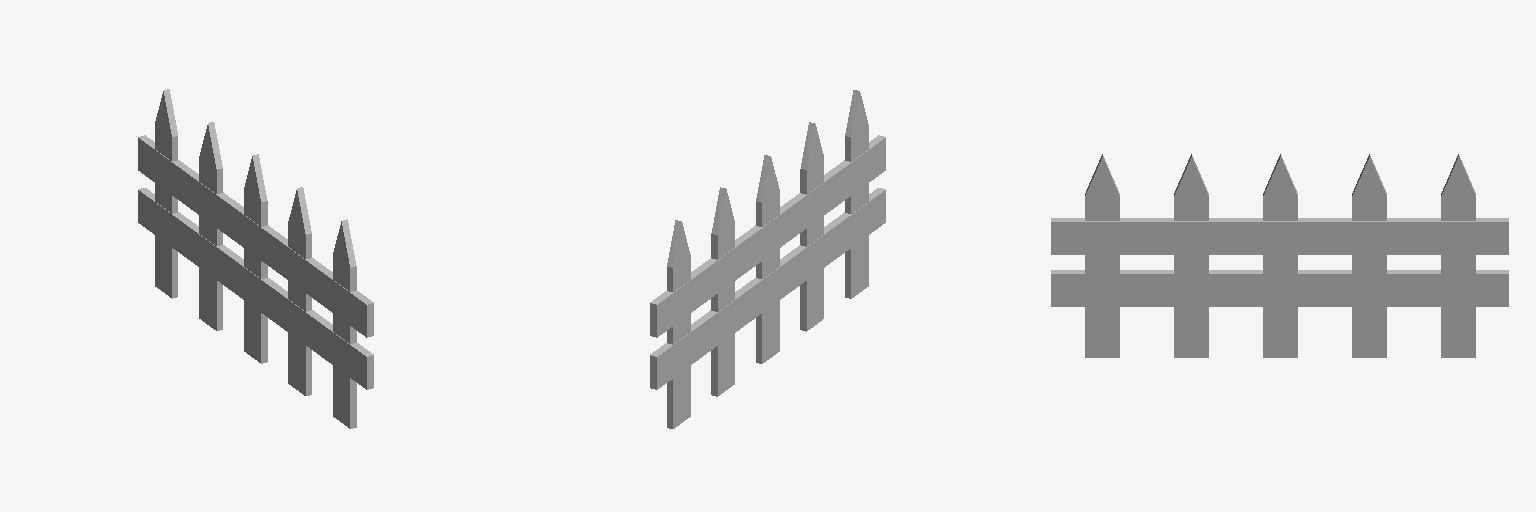
Rendered from fence.obj.
3 views of the same model, side by side, from view 1: azimuth 30°, elevation 25°; view 2: azimuth 150°, elevation 25°; view 3: azimuth 270°, elevation 25° (orthographic).
Size of the model in its own units: 0.1 by 2.5 by 5.15.